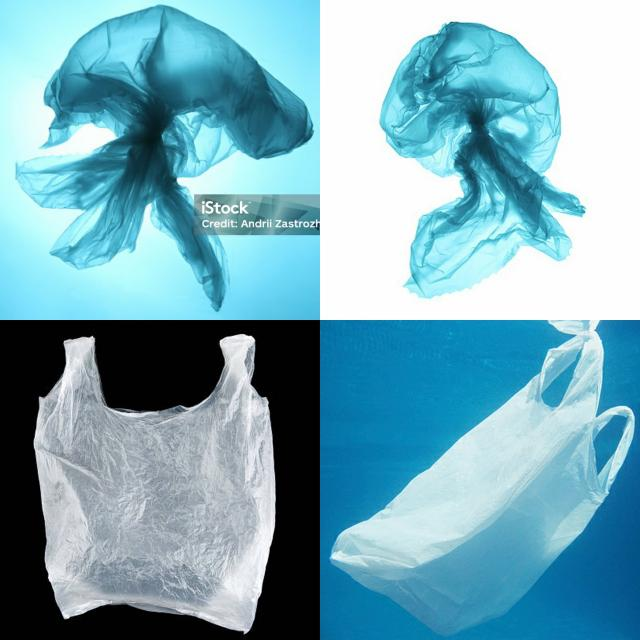Single-layer Plastic: (330, 322, 634, 635), (16, 5, 312, 310), (35, 335, 275, 631), (380, 22, 585, 298)
